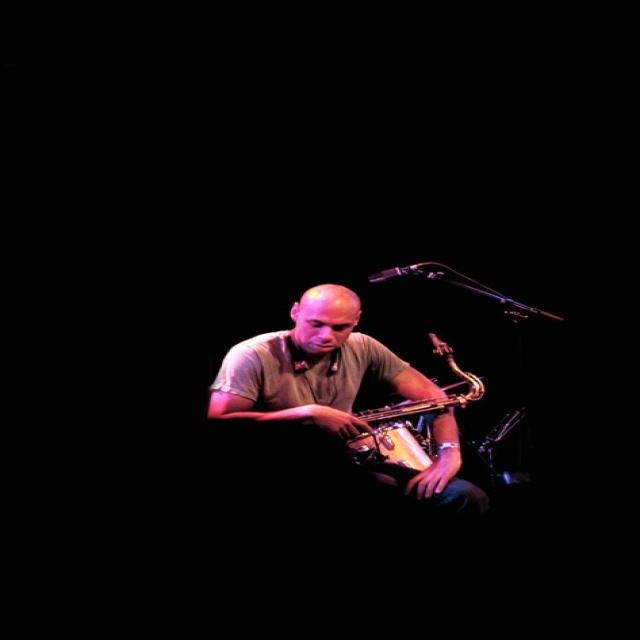saxophone: (294, 331, 490, 448)
